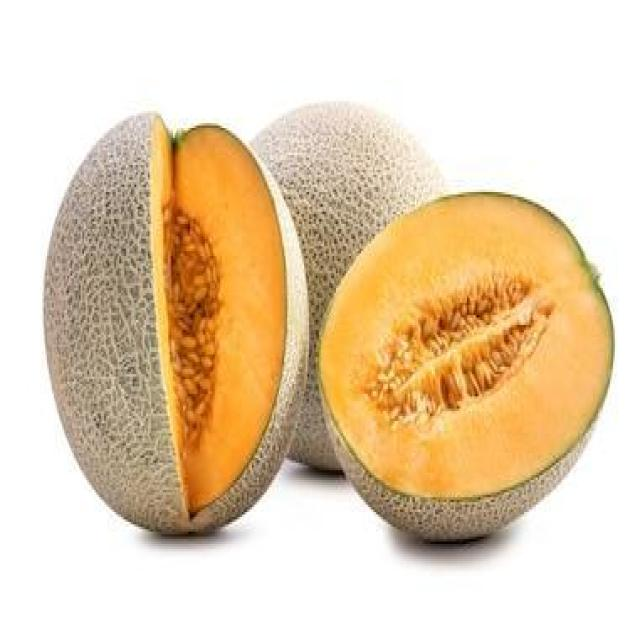cantaloupe: (42, 108, 308, 537), (319, 190, 616, 543)
